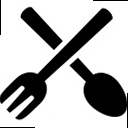Fork: (5, 8, 120, 121)
